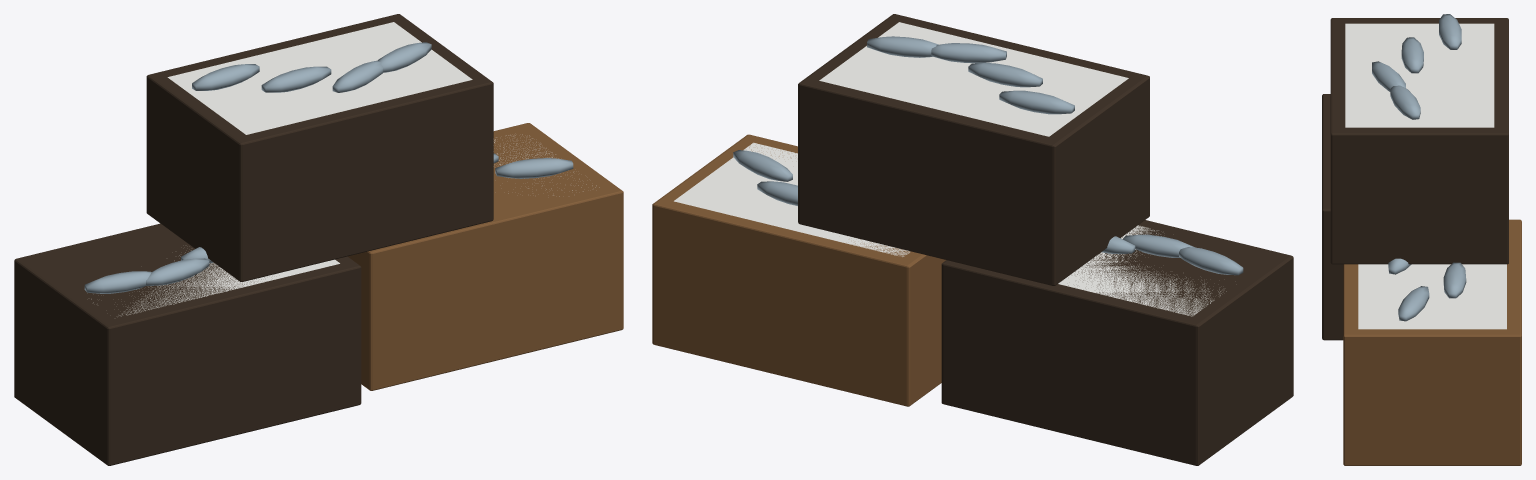
File: fischkisten.glb
3 renders of one model, left to right at view 1: azimuth 30°, elevation 25°; view 2: azimuth 150°, elevation 25°; view 3: azimuth 270°, elevation 25°, orthographic. The views are drawn at different scales.
Visible parts, largest first — view 1: Cube; view 2: Cube; view 3: Cube.
Part boxes in pixels (bbox=[...]): Cube: bbox=[14, 14, 623, 465]; Cube: bbox=[652, 14, 1293, 465]; Cube: bbox=[1322, 14, 1521, 465].
Bounding box in the file's own units: 1.35 × 0.74 × 0.47.
